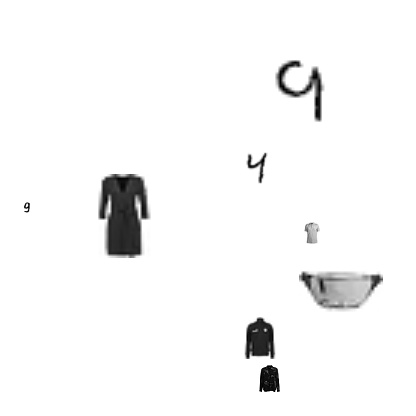4: (236, 144, 278, 186)
9: (258, 43, 342, 127), (20, 200, 34, 214)
Bag: (299, 248, 383, 332)
Coat: (239, 317, 281, 359)
Dress: (81, 174, 165, 258)
Shirt: (255, 365, 283, 393)
T-shirt/top: (301, 222, 323, 244)
